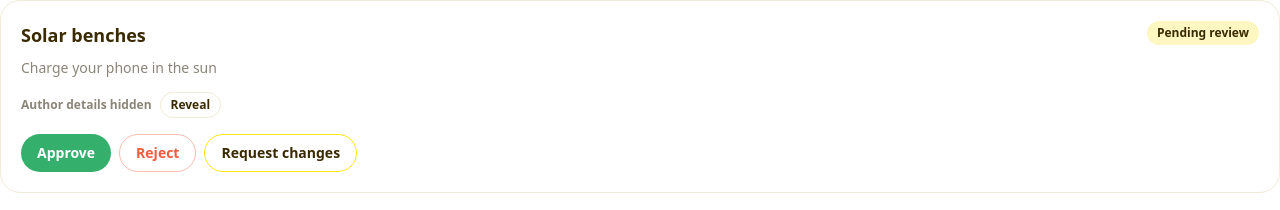
Scenario: ModerationItem › hides the submitted identity until the moderator reveals it
Expected: the heading "Solar benches" is shown, [21,21,146,49]
Expected: the text "Charge your phone in the sun" is shown, [21,58,217,77]
Click the button "Reveal".
click(190, 105)  # box [160,92,221,118]
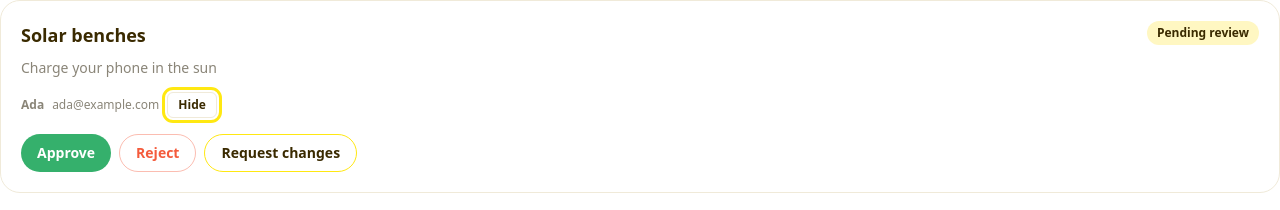
Expected: the text "Ada" is shown, [21,96,44,113]
Expected: the text "ada@example.com" is shown, [52,96,159,113]
